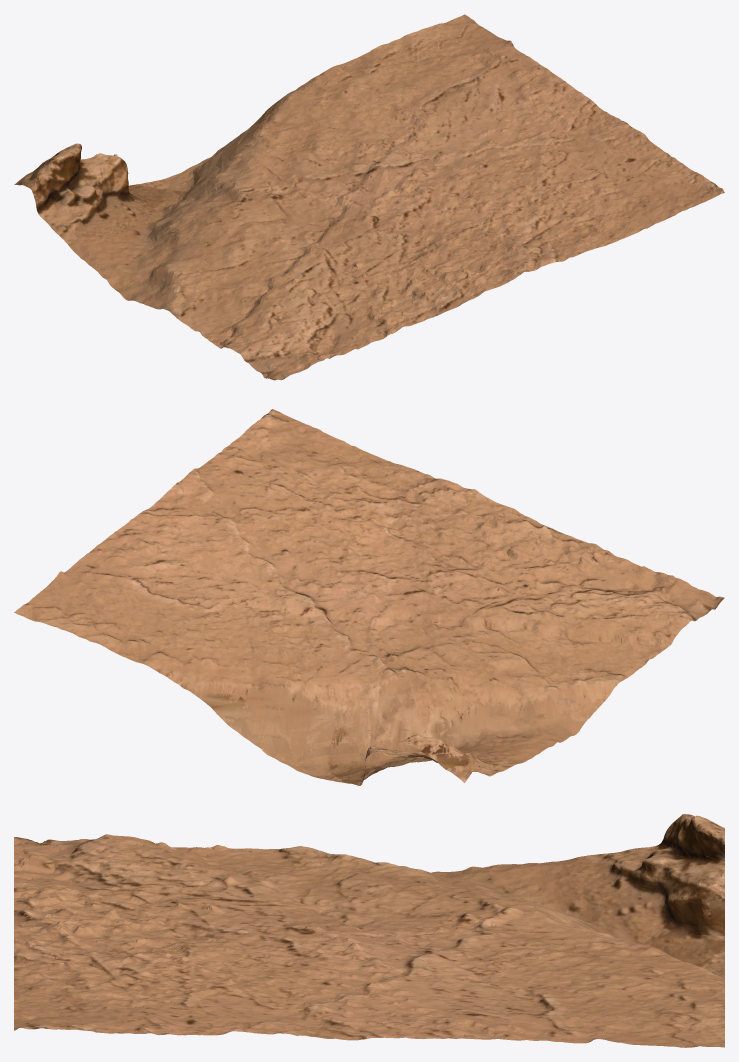
3 renders of one model, top to bottom at view 1: azimuth 30°, elevation 25°; view 2: azimuth 150°, elevation 25°; view 3: azimuth 270°, elevation 25°, orthographic. The views are drawn at different scales.
Bounding box in the file's own units: 1.04 × 0.2393 × 1.04.
Materials: 2 (2 with a texture image).
